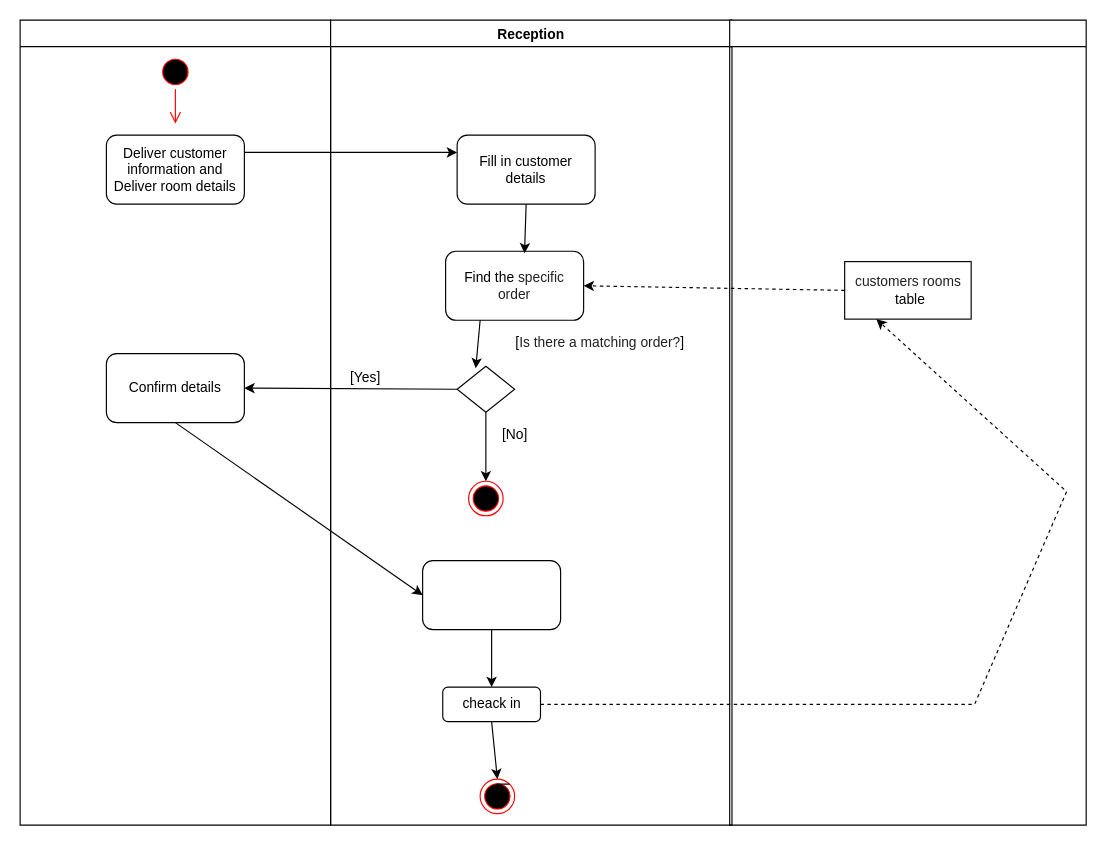
This 1106x845 diagram has some shape labels left out. Each missing label, with the box of its shape:
Costumer: (19, 19, 331, 825)
Enter Detailes: (421, 559, 561, 630)
System: (729, 19, 1086, 825)
